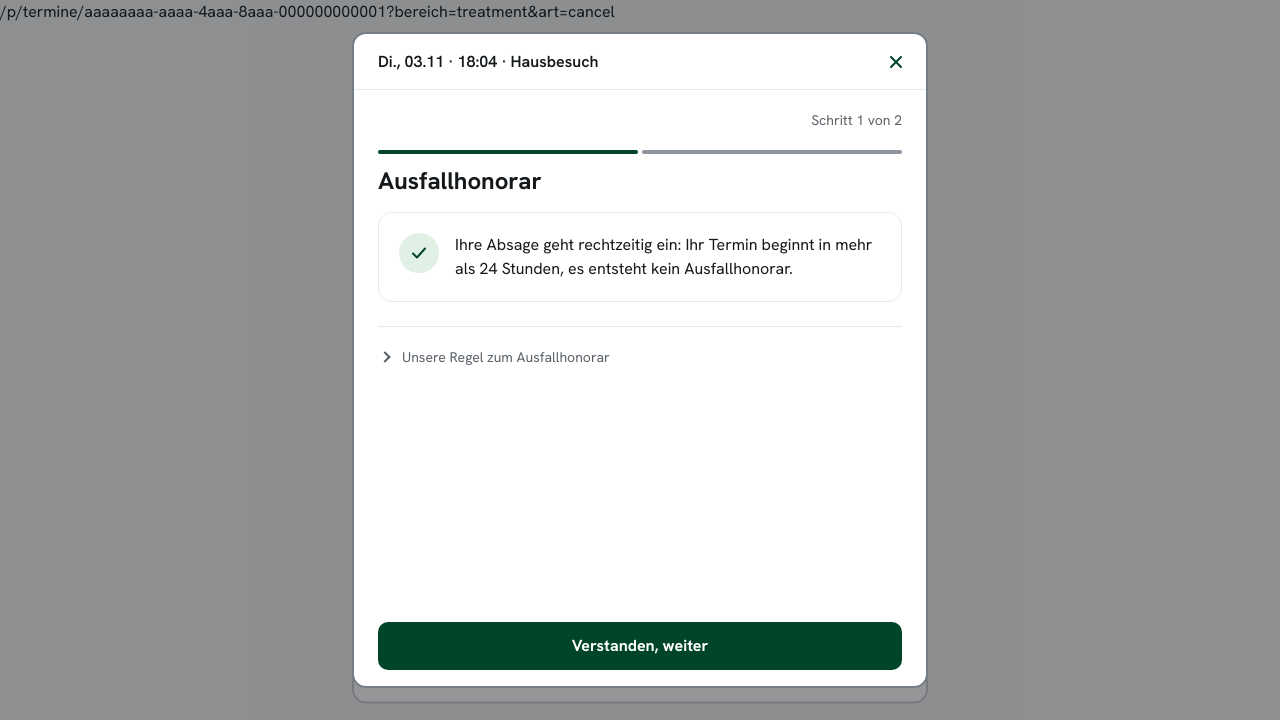
Test case: Terminaenderung (POR-010, Schritt 3d) › sendet die Absage: die Karte mit Tag, Zeit, Art und Person, der Satz zum Eingang
Click the 2nd button "Verstanden, weiter" at [640, 646], box [378, 622, 902, 670]
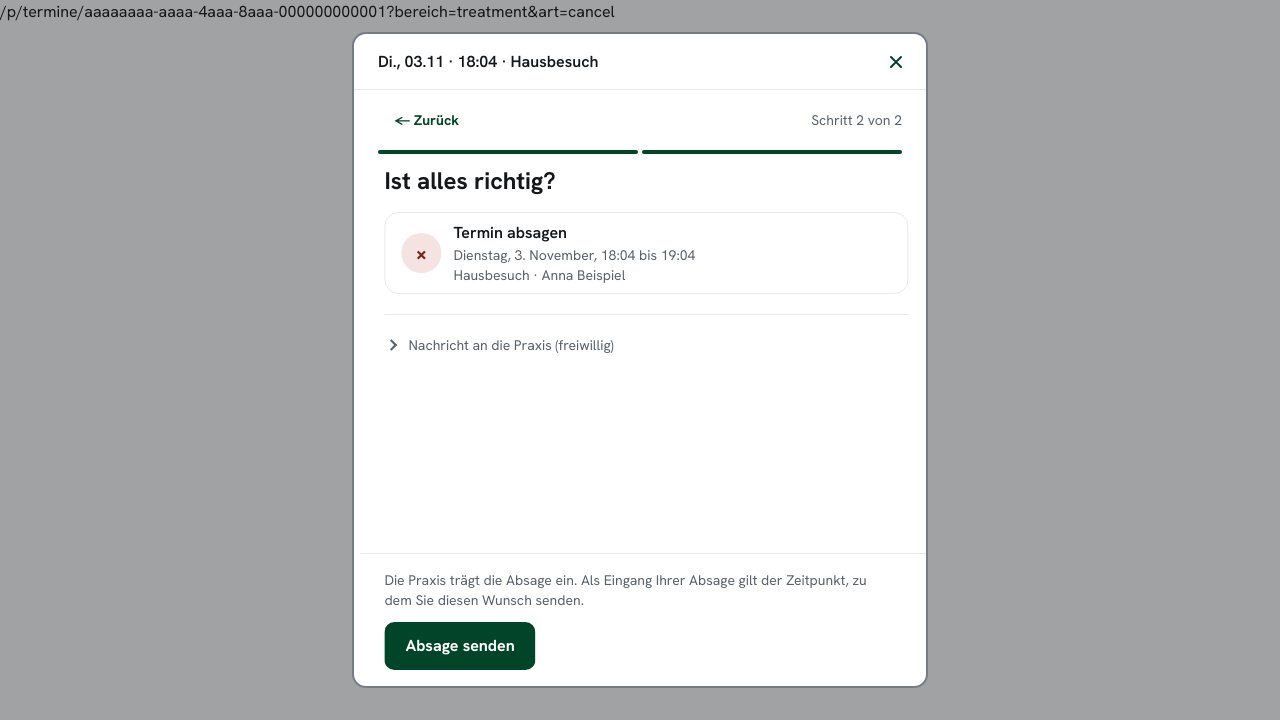
Result: the text "Schritt 2 von 2" is shown at [811, 110, 902, 130]
Result: the text "Termin absagen" is shown at [448, 222, 562, 243]
Result: the text "Hausbesuch · Anna Beispiel" is shown at [448, 266, 620, 284]
Click the heading "Nachricht an die Praxis (freiwillig)" at [495, 345], box [381, 336, 609, 354]
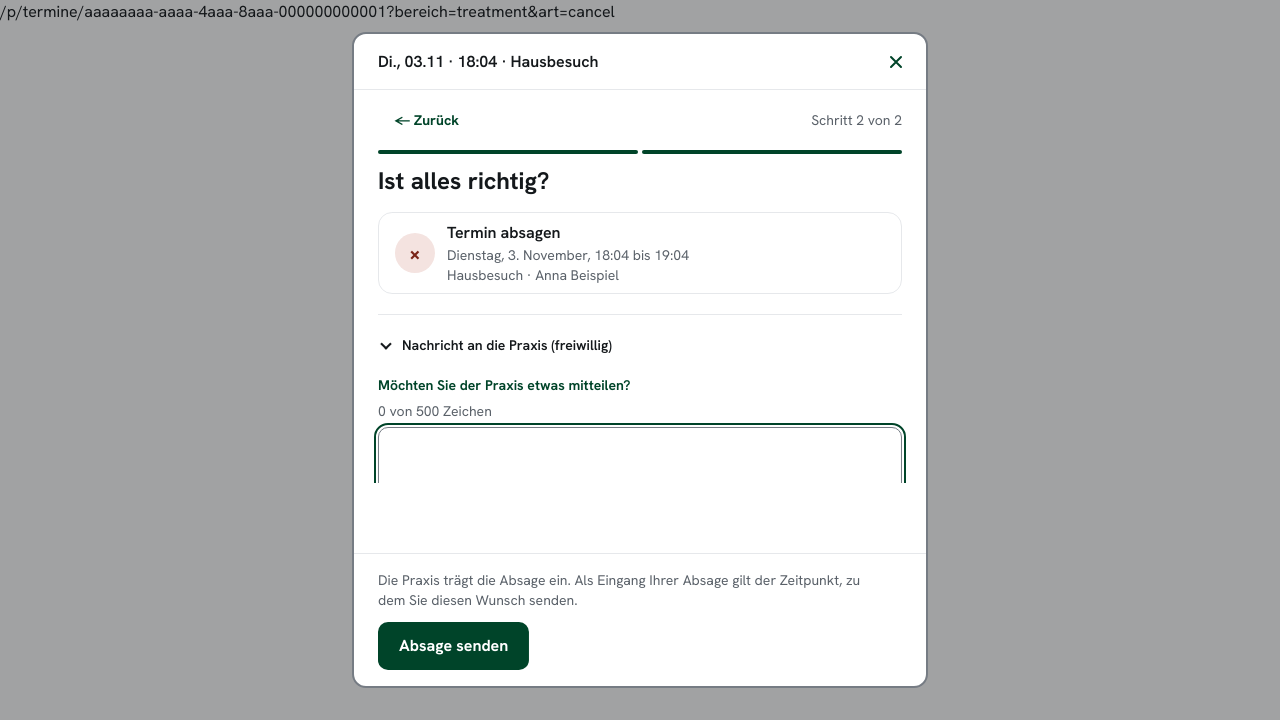
Result: the text box labelled "Möchten Sie der Praxis etwas mitteilen?" is shown
Type "Bin verreist." into the text box labelled "Möchten Sie der Praxis etwas mitteilen?" at [640, 479], box [378, 427, 902, 531]
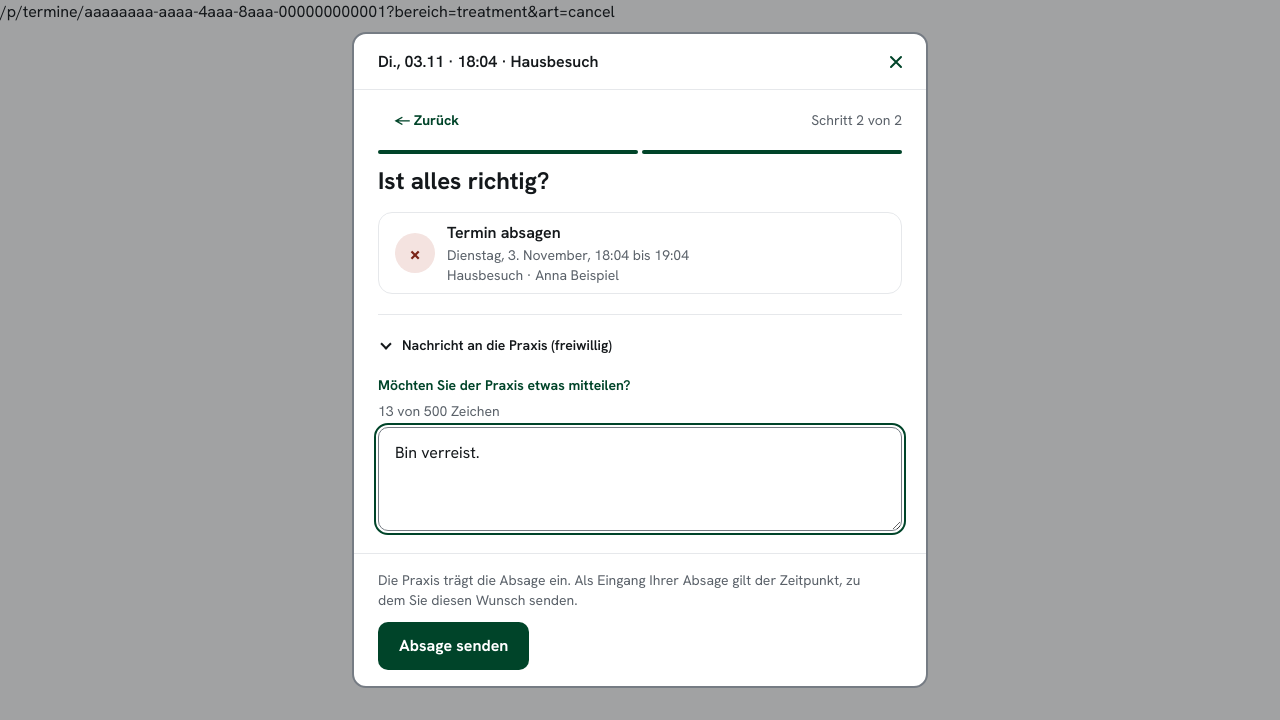
Click the button "Absage senden" at [454, 646], box [378, 622, 529, 670]
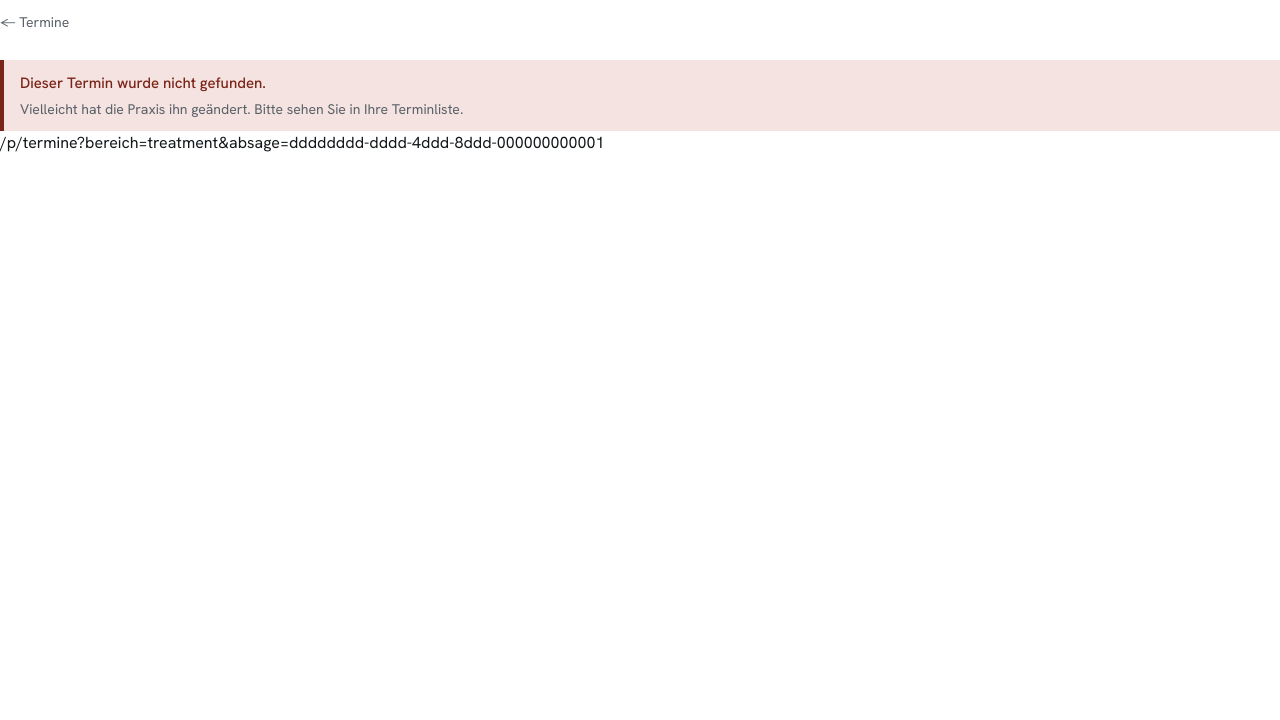
Result: the text with test id "ort" reads "/p/termine?bereich=treatment&absage=dddddddd-dddd-4ddd-8ddd-000000000001" at [0, 132, 604, 152]
